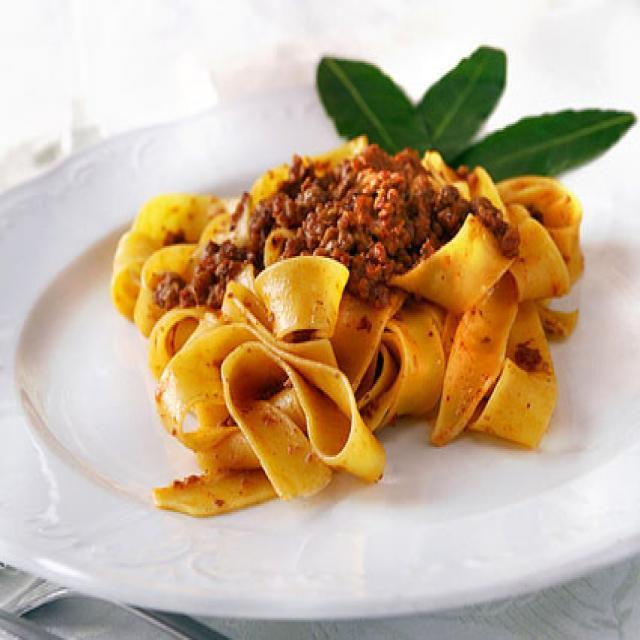Pasta al ragu: (101, 112, 604, 514)
